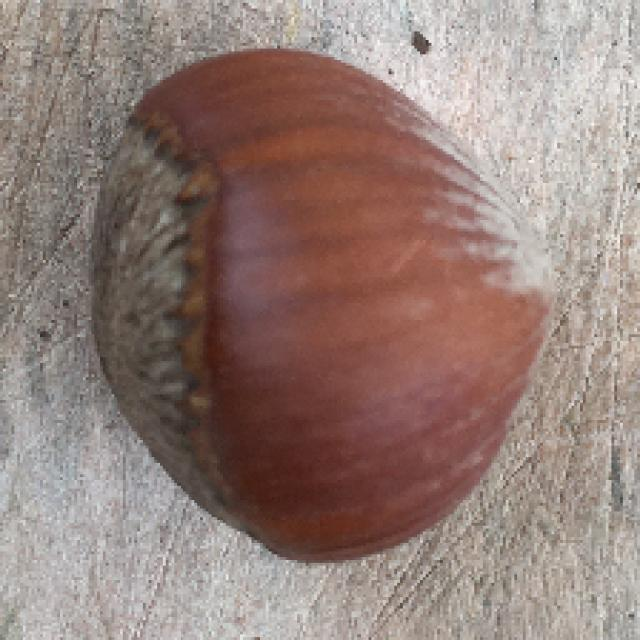damagedHazelnut: (92, 49, 565, 561)
